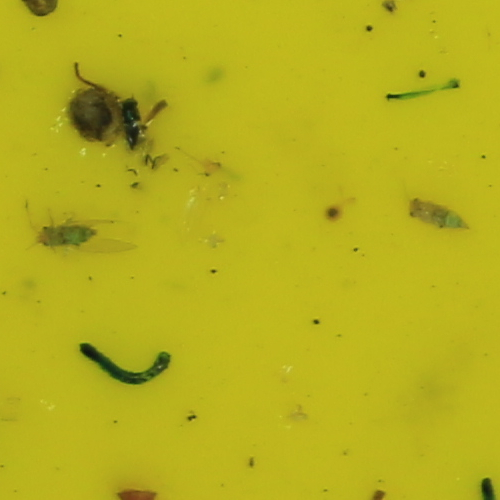Glycaspis: (407, 198, 472, 236), (32, 221, 103, 246)
